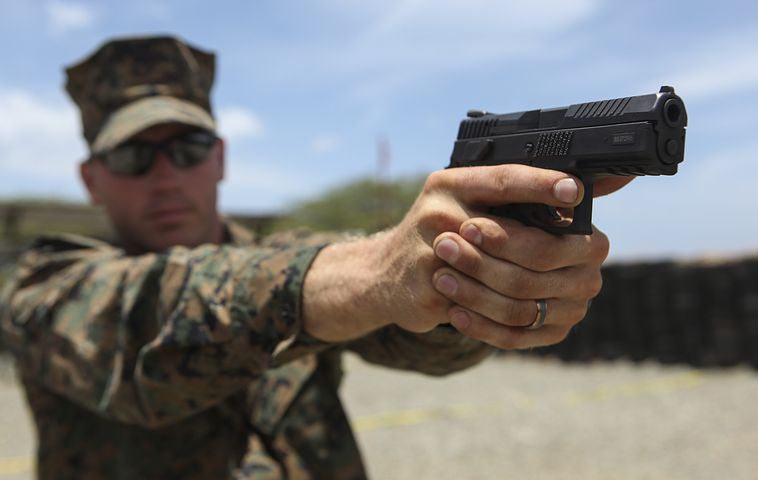gun: (442, 83, 692, 238)
